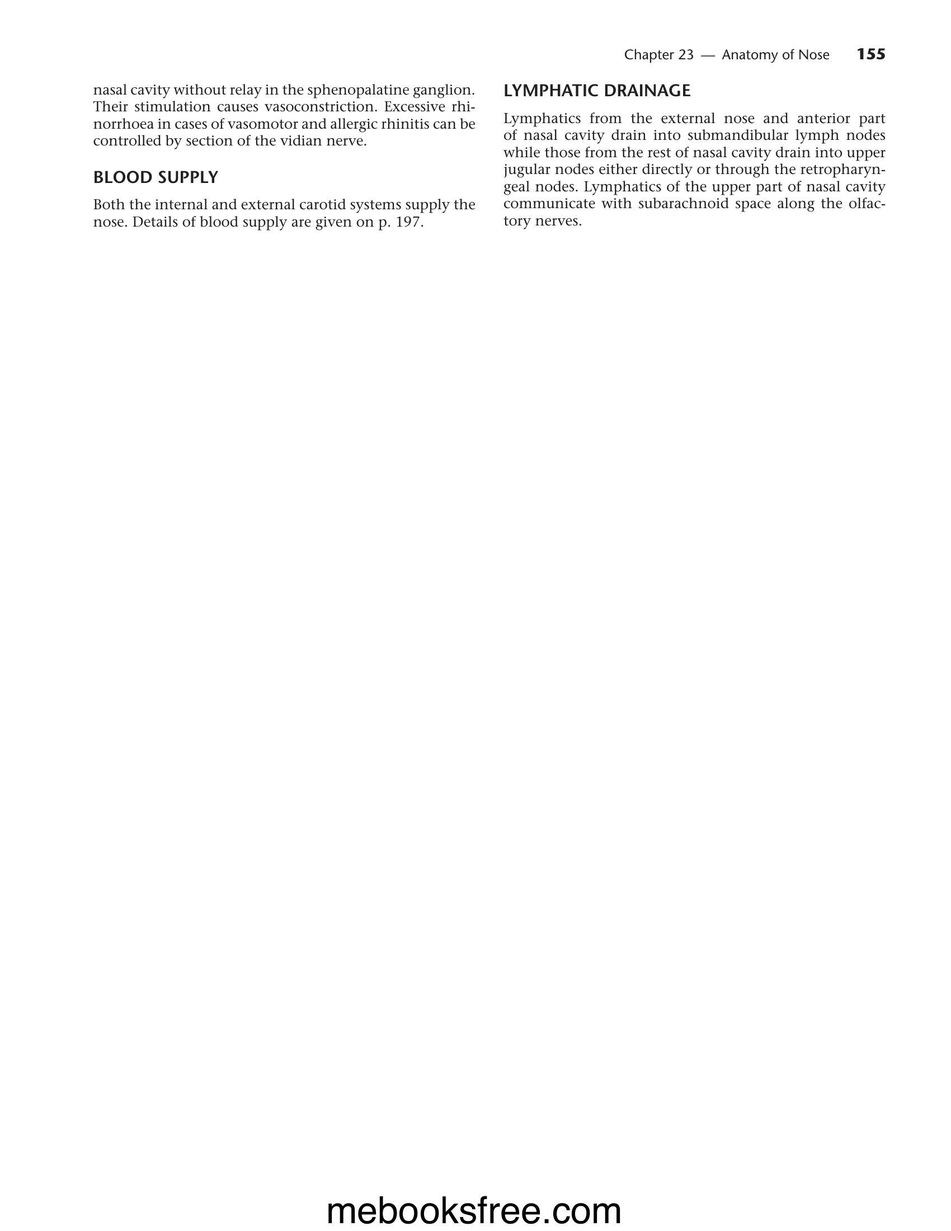header: (623, 47, 831, 64)
sub-section-heading: (504, 82, 691, 98), (92, 169, 220, 184)
text: (501, 110, 889, 230), (92, 81, 477, 151), (92, 197, 477, 231)
